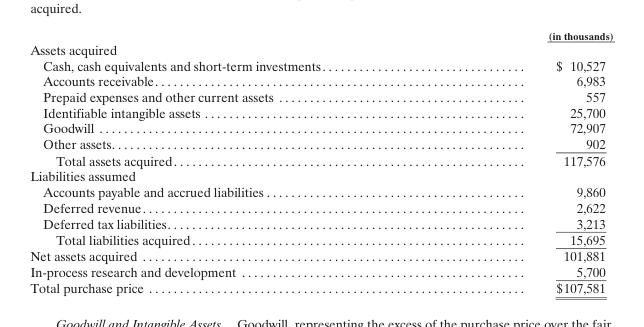table: (29, 28, 612, 295)
table column: (29, 28, 436, 295), (436, 28, 612, 295)
table column header: (29, 28, 612, 41)
table projected row header: (29, 41, 612, 57), (29, 167, 612, 183)
table row: (29, 41, 612, 57), (29, 72, 612, 88), (29, 88, 612, 104), (29, 119, 612, 135), (29, 135, 612, 151), (29, 151, 612, 167), (29, 167, 612, 183), (29, 183, 612, 199), (29, 199, 612, 215), (29, 215, 612, 231), (29, 231, 612, 247), (29, 247, 612, 263), (29, 263, 612, 279), (29, 279, 612, 295), (29, 57, 612, 72), (29, 104, 612, 119), (29, 28, 612, 41)
